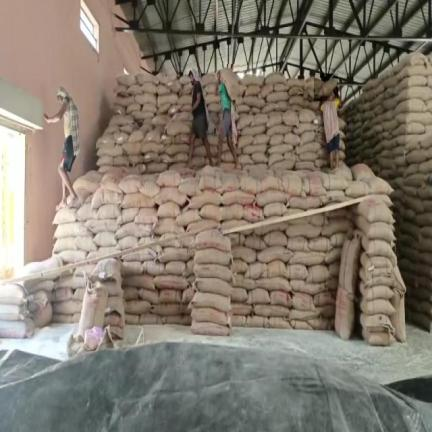Zone-Counting: (216, 69, 238, 167)
